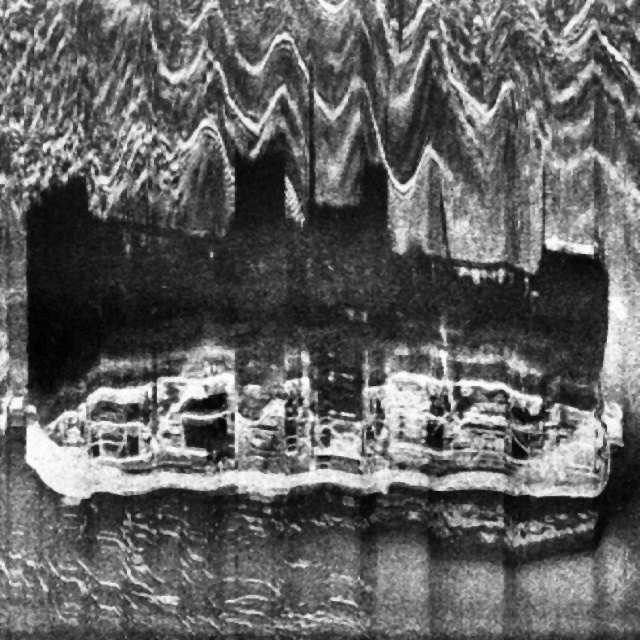Ship: (10, 270, 627, 566)
